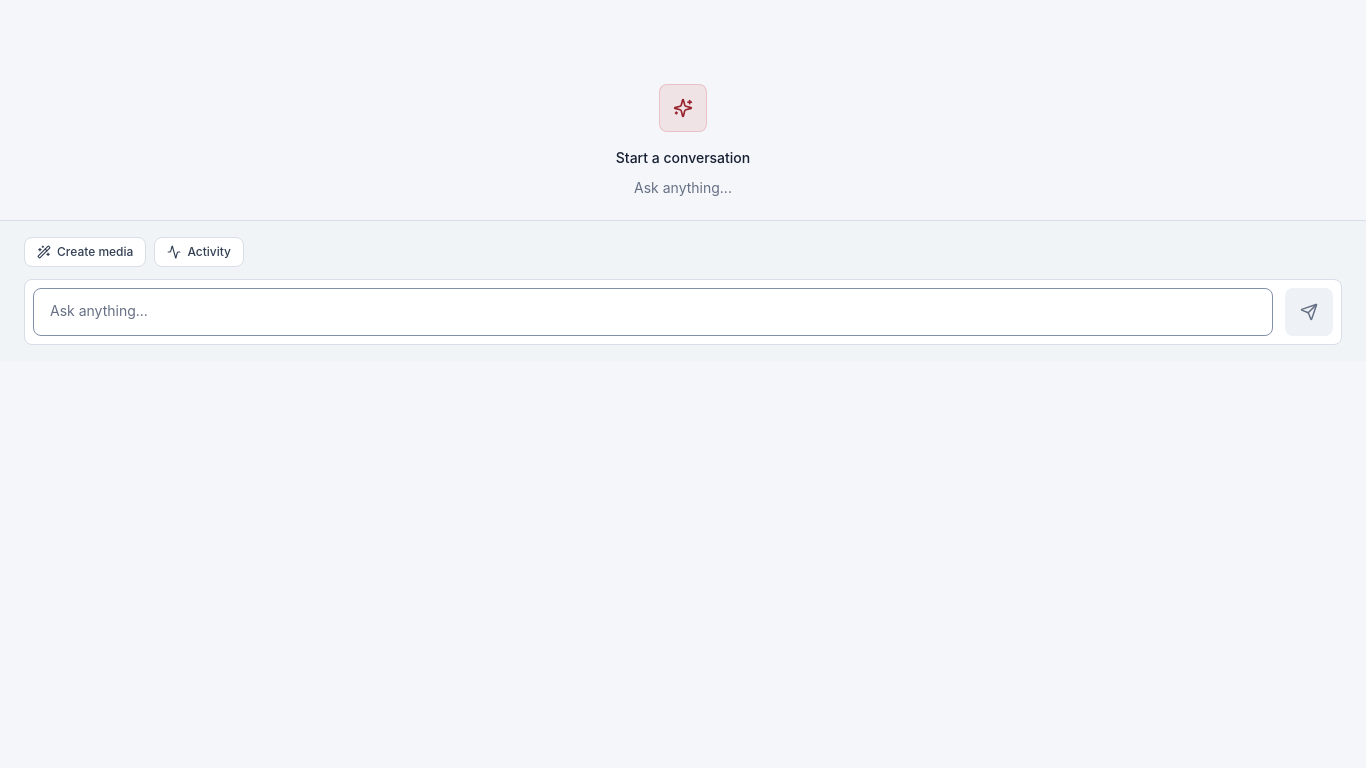
Test: creates media through the Workspace conversation and keeps its answer in chat
Click the button "Create media" at (85, 252), box [24,237,146,267]
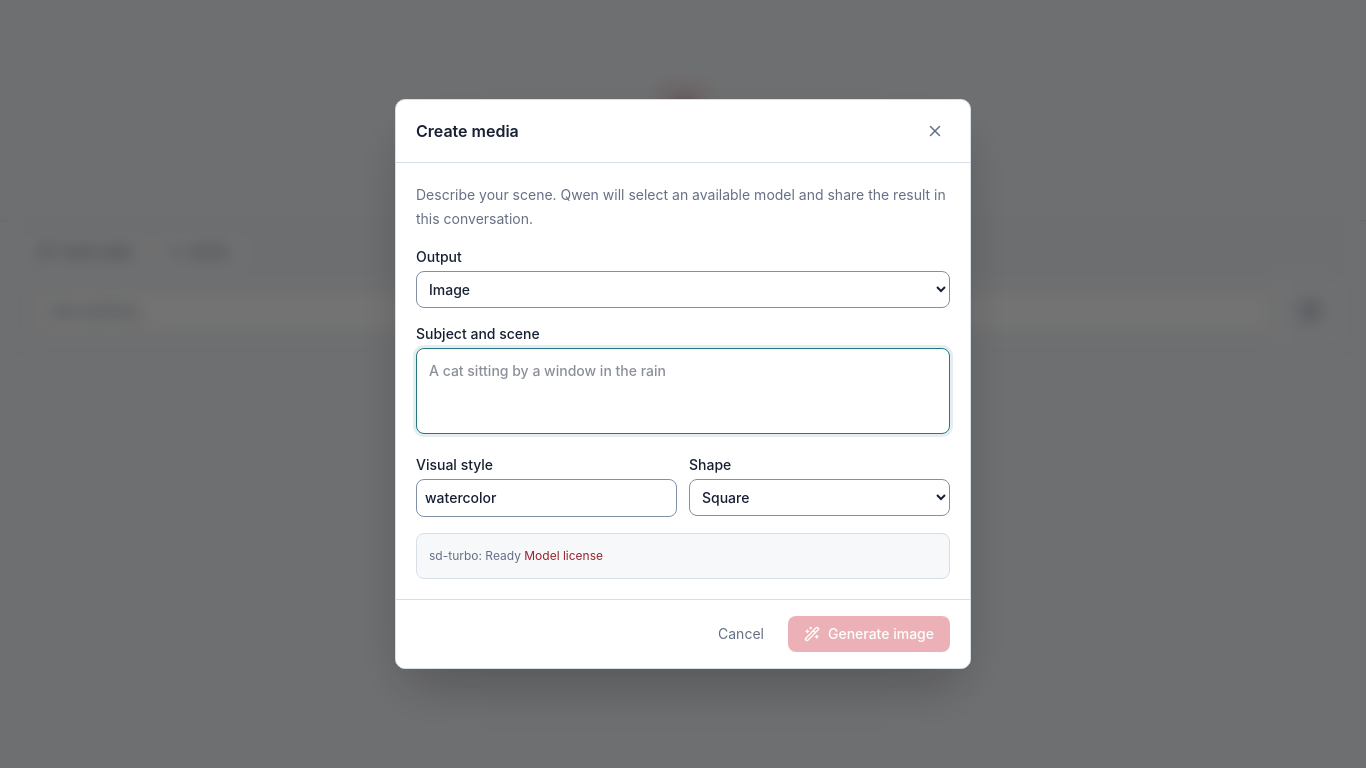
Type "A cat by a window" into the text box labelled "Subject and scene" at (683, 391), box [416,348,950,434]
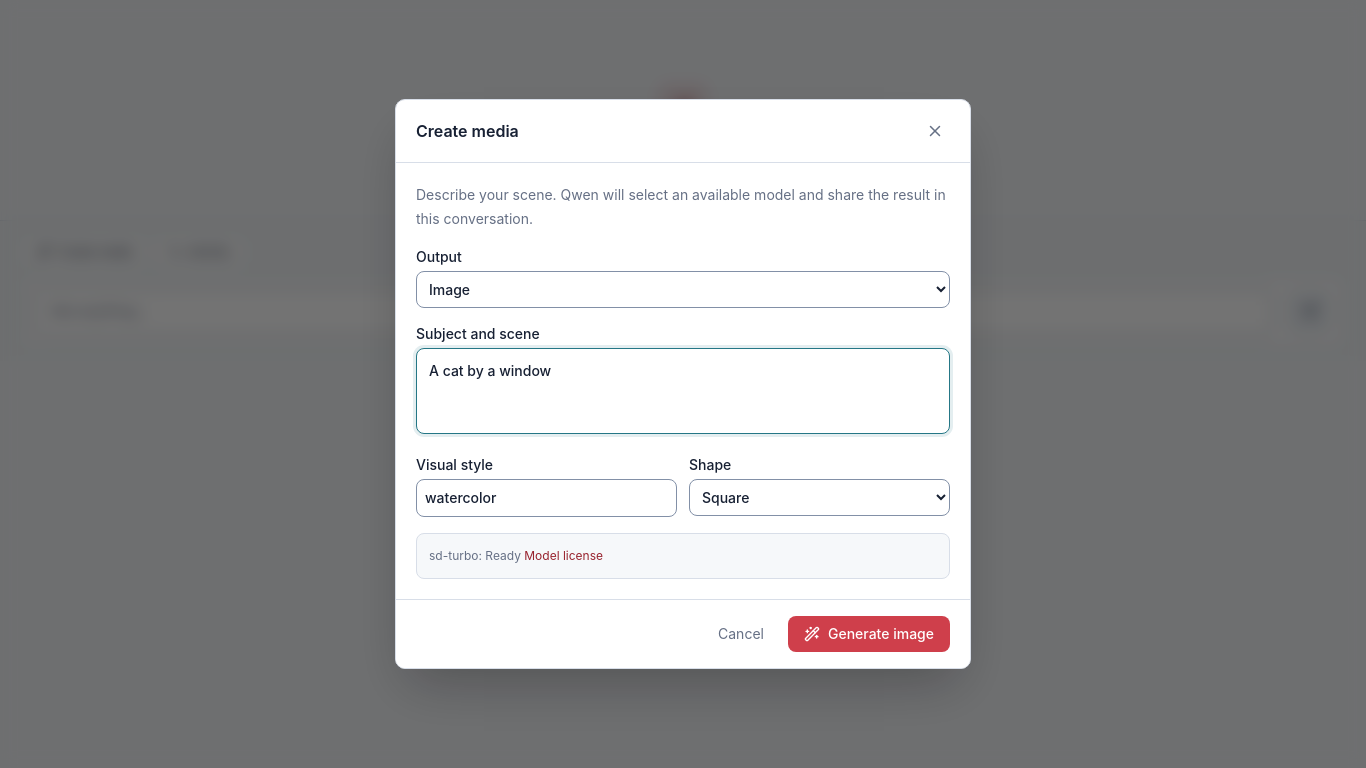
Click the button "Generate image" at (869, 634), box [788,616,950,652]
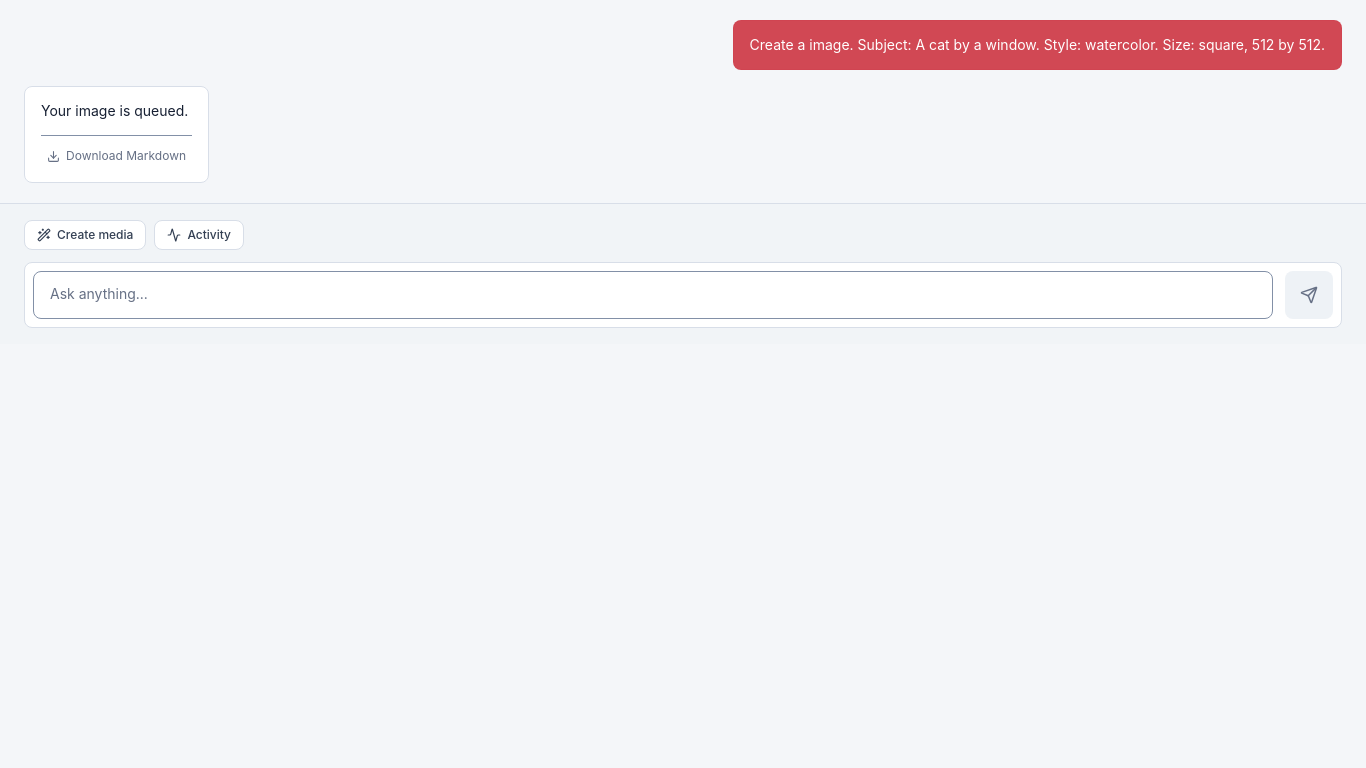
Now the text "Your image is queued." is shown, box [41,99,192,123]
Now the dialog is gone
